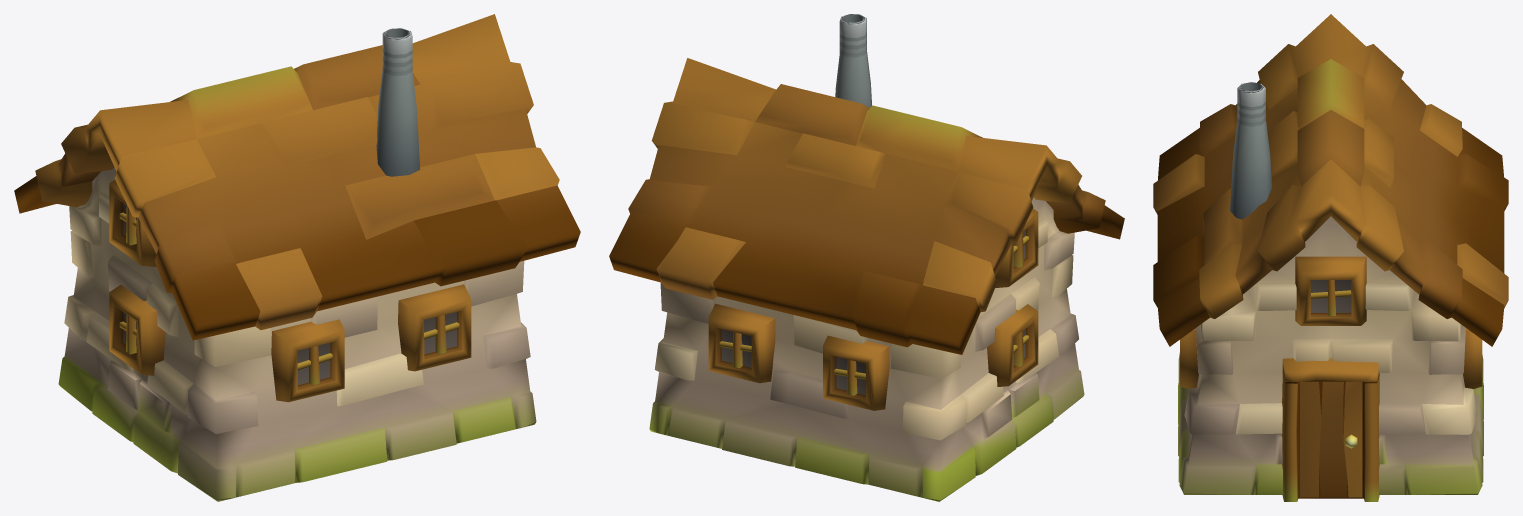
The model's file is houseSm_A.fbx.
3 views of the same model, side by side, from view 1: azimuth 30°, elevation 25°; view 2: azimuth 150°, elevation 25°; view 3: azimuth 270°, elevation 25° (orthographic). The views are drawn at different scales.
Visible parts, largest first — view 1: houseSm_A; view 2: houseSm_A; view 3: houseSm_A.
Part boxes in pixels (box(x1,y1,x2,y2)): houseSm_A: box(14, 14, 580, 501); houseSm_A: box(609, 14, 1124, 501); houseSm_A: box(1153, 14, 1508, 501).
Size of the model in its own units: 657 by 611 by 543.
